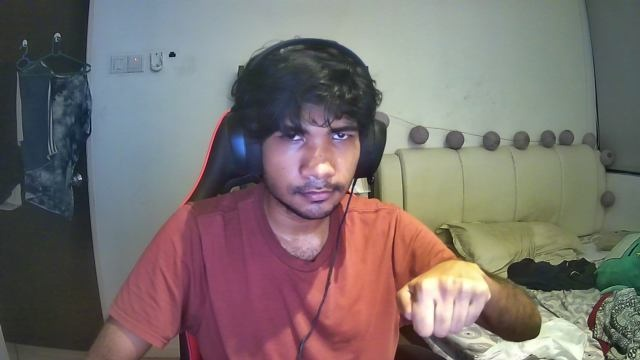Yes: (384, 255, 497, 338)
